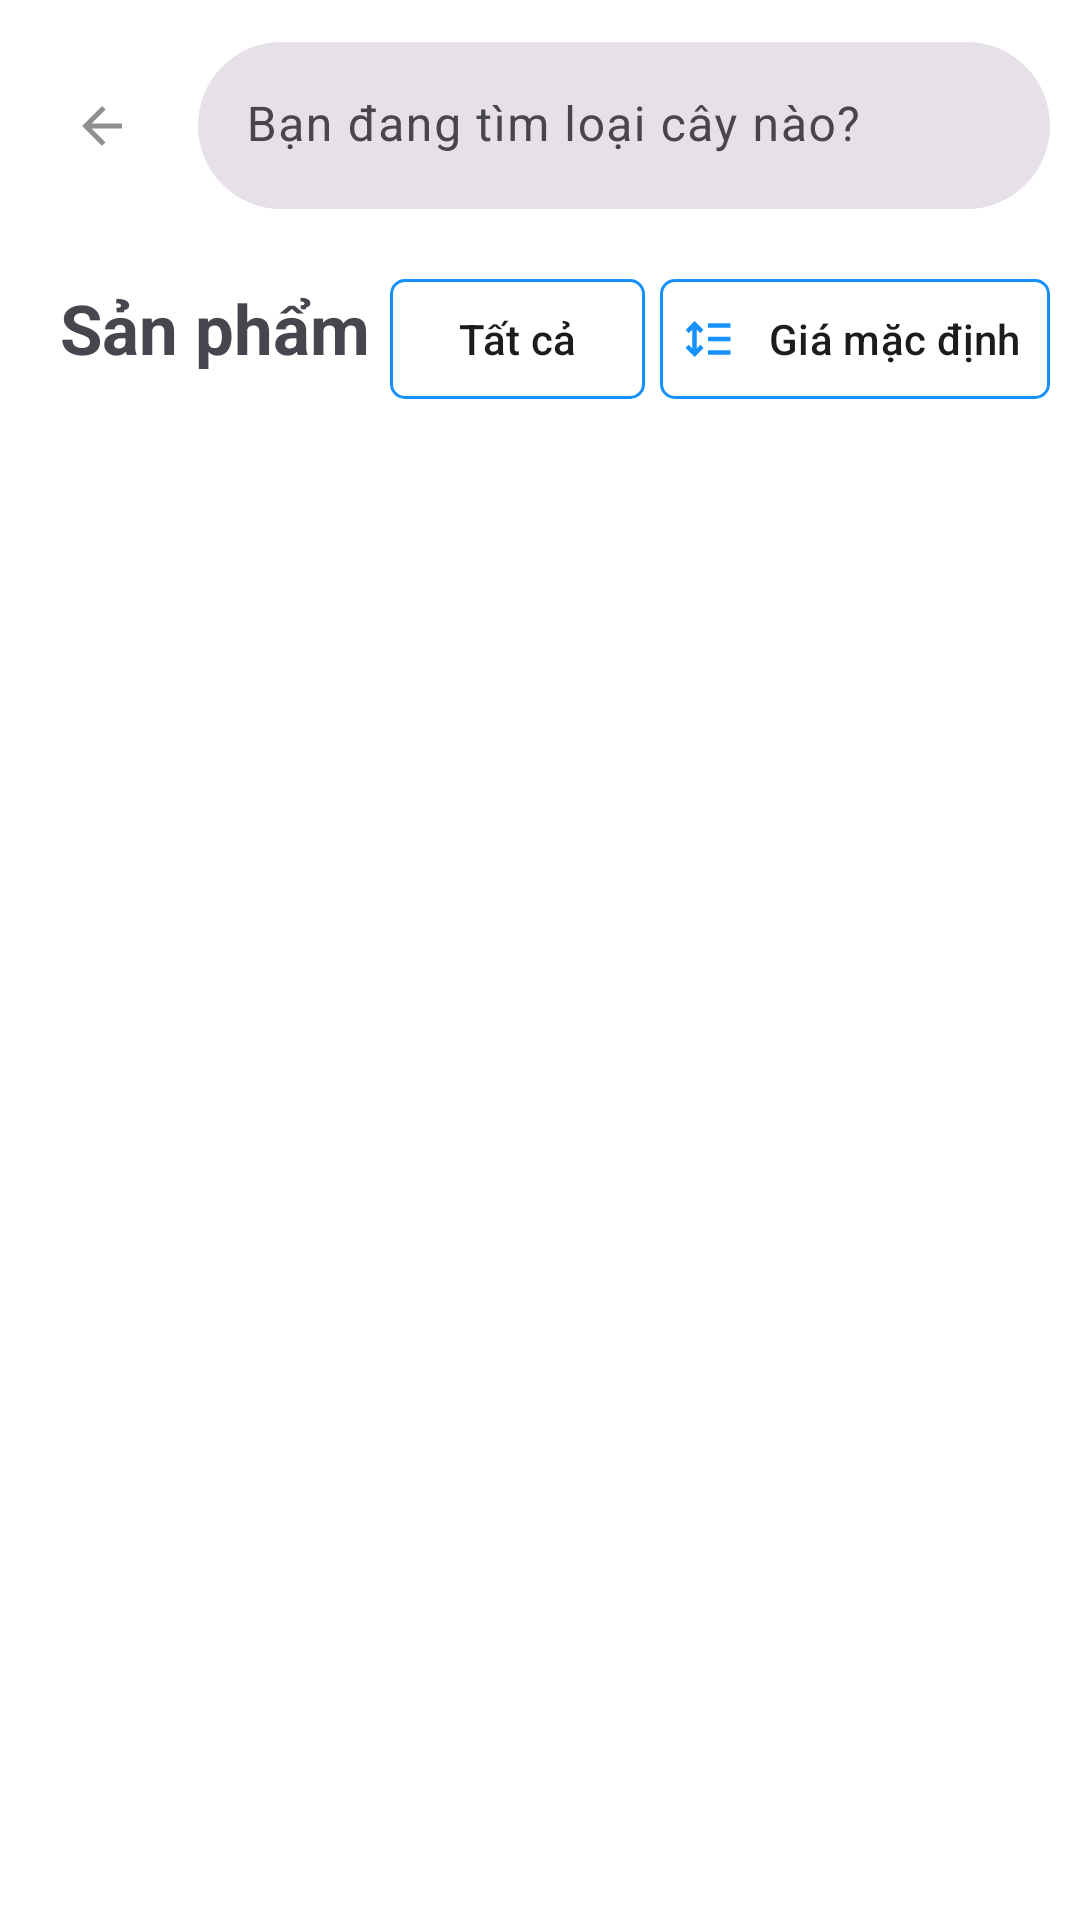

Named icons in this screenshot (1080 × 1920) and their centers, [x,y]:
back arrow: [102,126]
